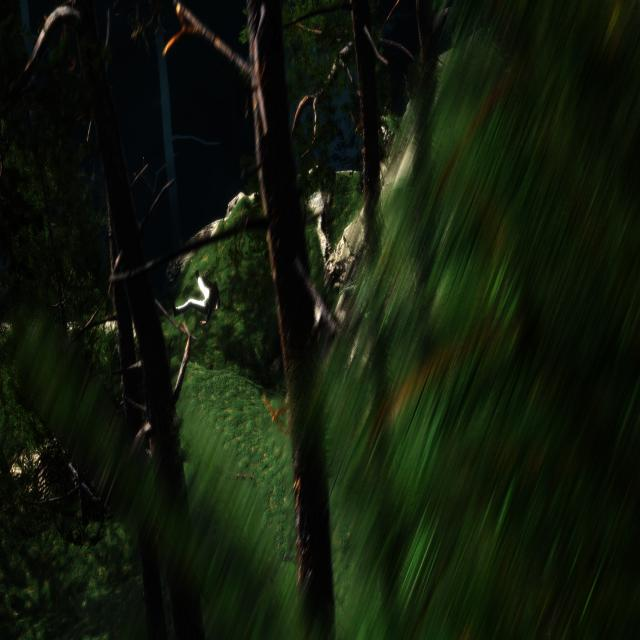Human: (172, 262, 222, 331)
